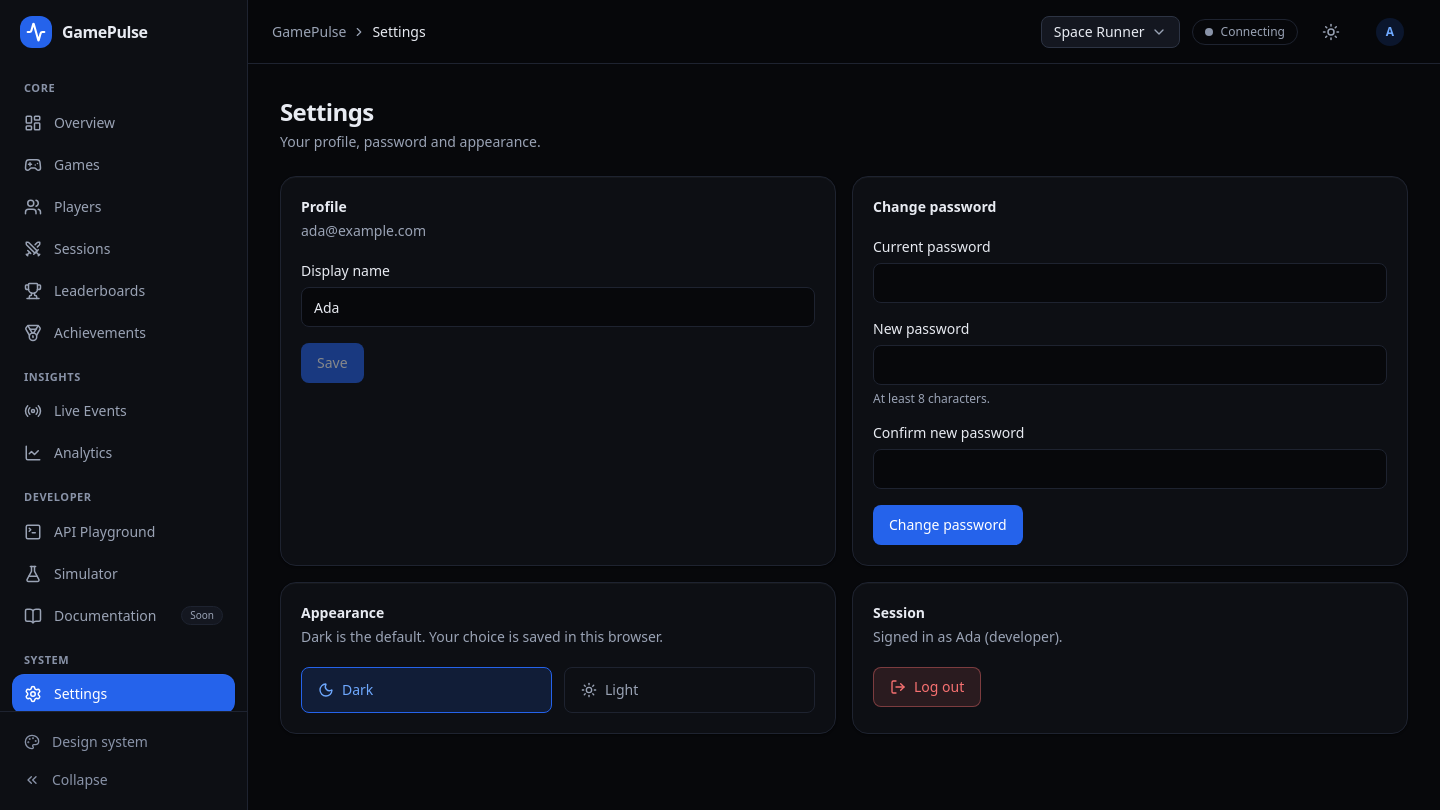
Test: Settings page › reports a wrong current password on the field
Type "wrong-wrong" into the password field labelled "Current password" at (1130, 283), box [873,263,1387,303]
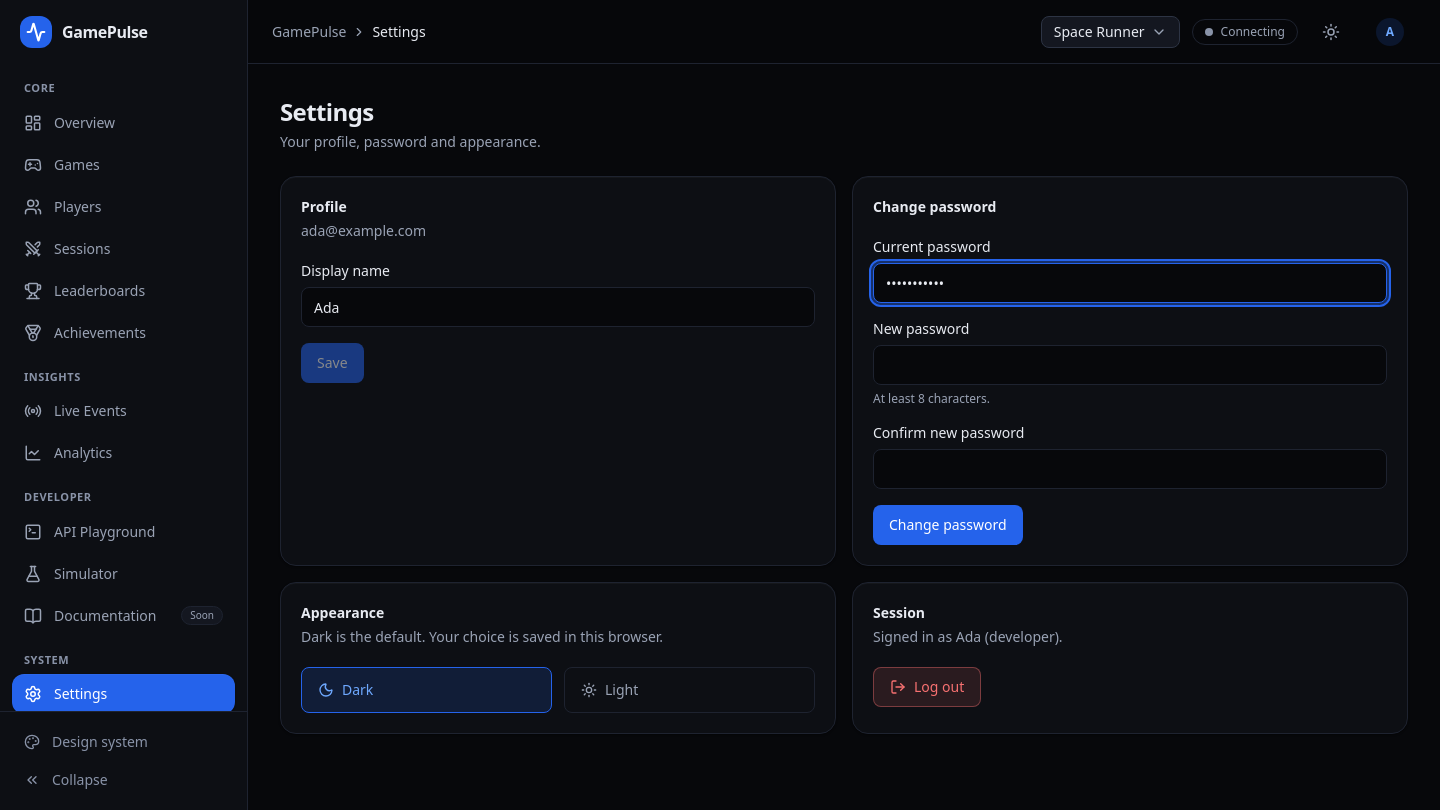
Type "new-password-1" into the password field labelled "New password" at (1130, 365), box [873,345,1387,385]
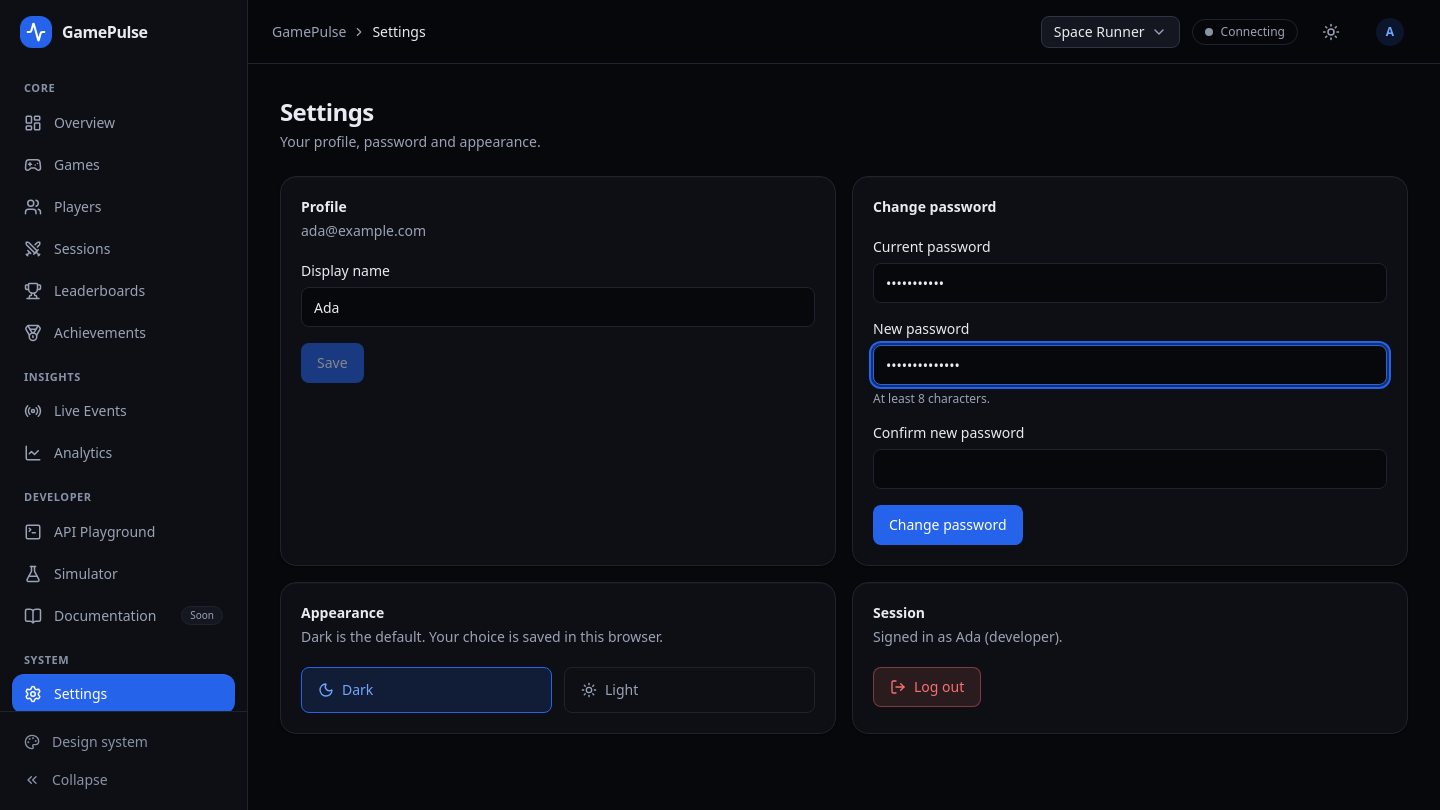
Type "new-password-1" into the password field labelled "Confirm new password" at (1130, 469), box [873,449,1387,489]
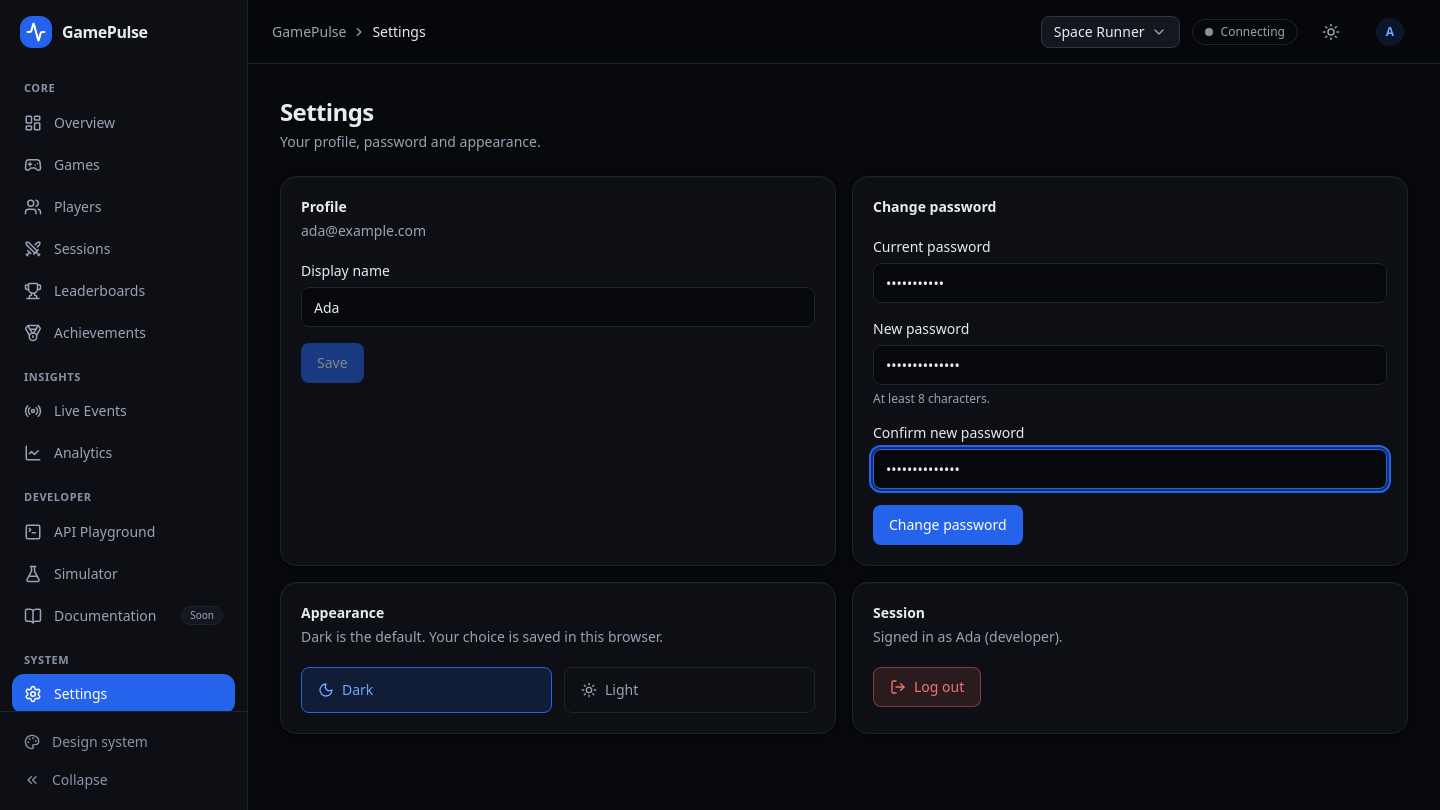
Click the button "Change password" at (948, 525), box [873,505,1023,545]
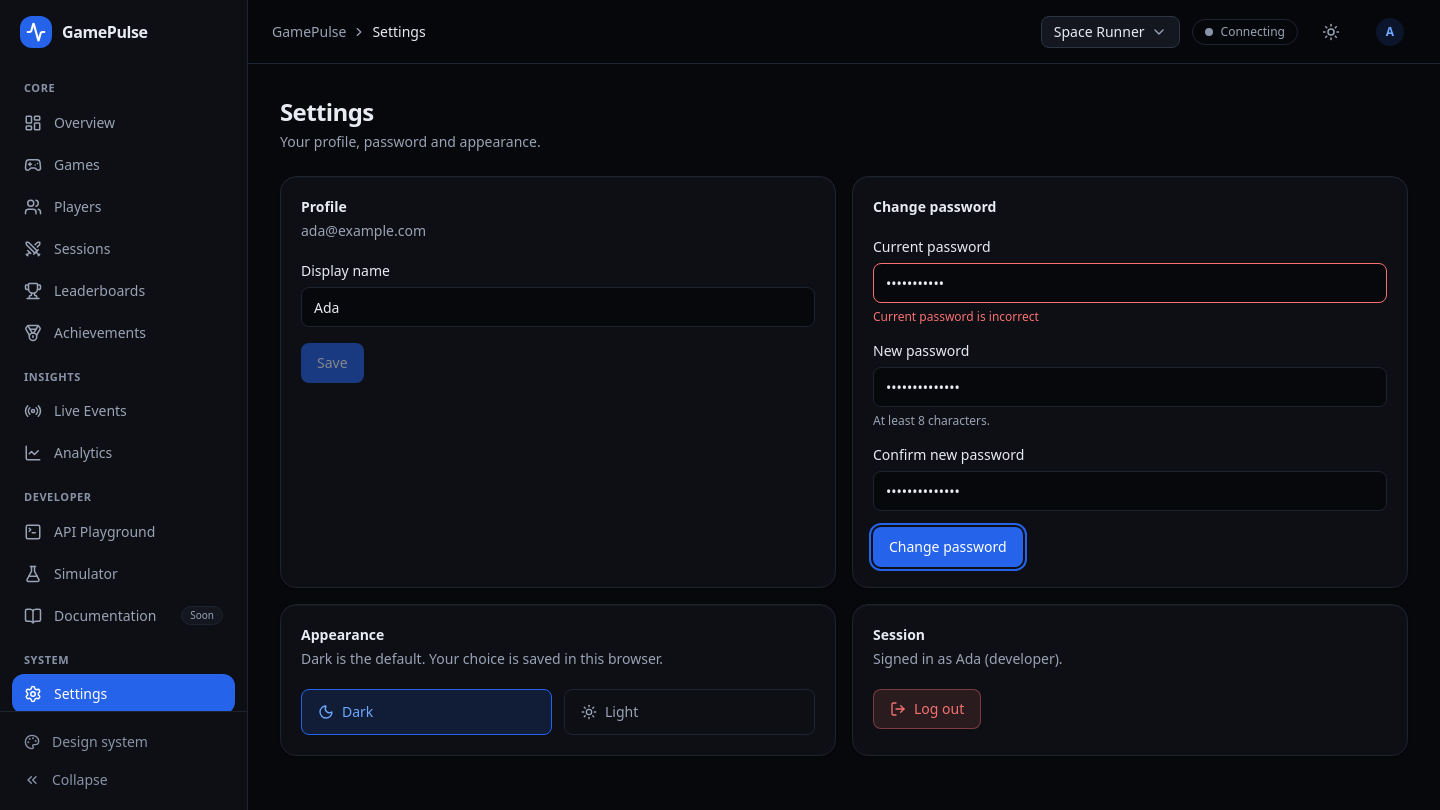
Result: the text "Current password is incorrect" is shown at [873,308,1039,325]
